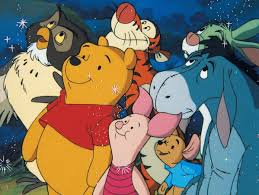Winnie: (61, 37, 132, 133)
